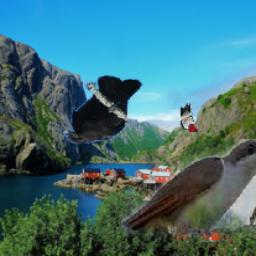Crow: (62, 74, 142, 144)
Cuckoo: (120, 139, 256, 236)
Woodpecker: (179, 102, 203, 132)
